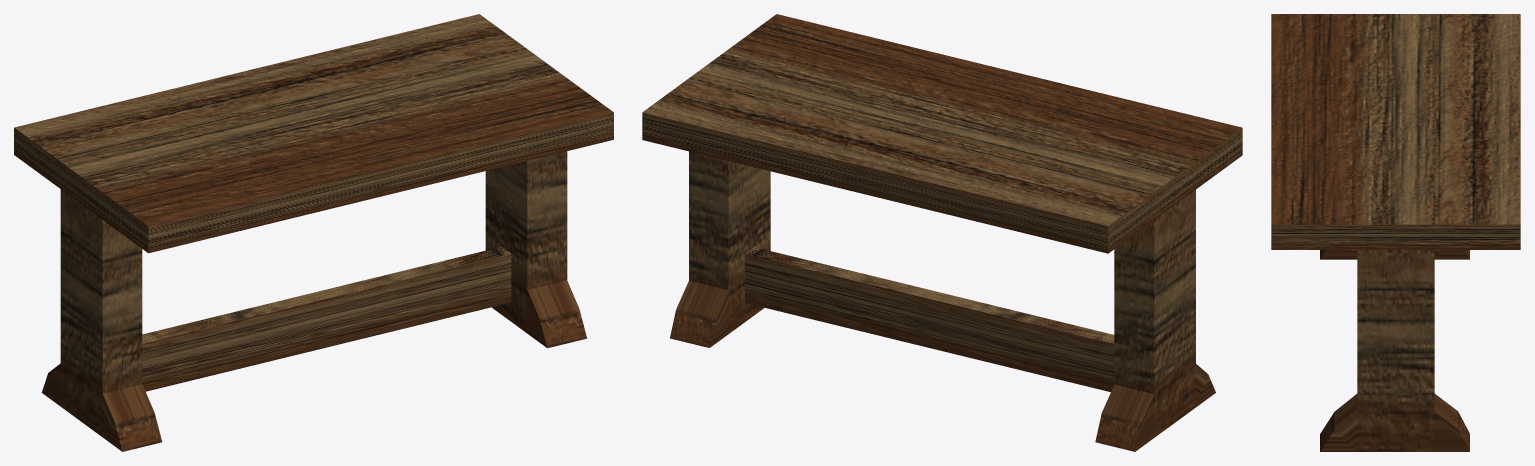
File: bar_table.glb
3 renders of one model, left to right at view 1: azimuth 30°, elevation 25°; view 2: azimuth 150°, elevation 25°; view 3: azimuth 270°, elevation 25°, orthographic. The views are drawn at different scales.
Parts seen in each view (by area): view 1: Top, Leg.R, Base; view 2: Top, Leg.R, Base; view 3: Top, Leg.R.
Part boxes in pixels (x1=…): Top: x1=14, y1=14, x2=613, y2=253; Leg.R: x1=41, y1=151, x2=586, y2=451; Base: x1=142, y1=246, x2=511, y2=391; Top: x1=642, y1=14, x2=1242, y2=253; Leg.R: x1=670, y1=151, x2=1215, y2=451; Base: x1=745, y1=247, x2=1114, y2=392; Top: x1=1271, y1=14, x2=1520, y2=249; Leg.R: x1=1320, y1=250, x2=1469, y2=451.
Bounding box in the file's own units: 2 × 1.01 × 1.
1 material, 1 textured.
